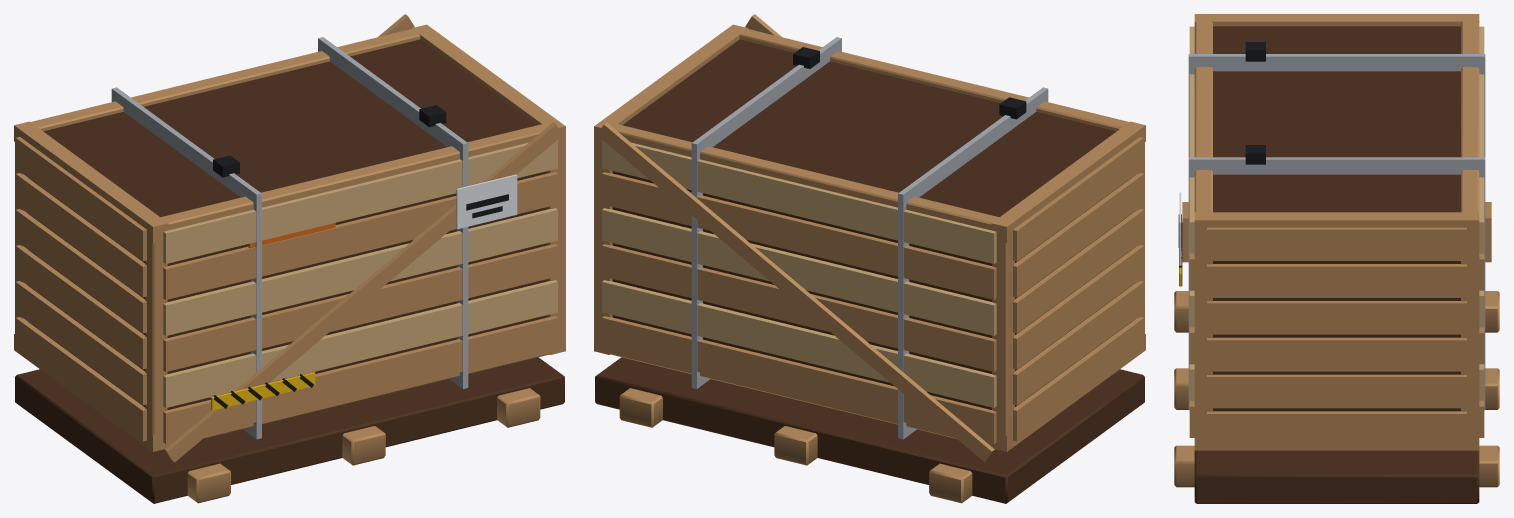
The model's file is crate_plank_crate_24.glb.
The picture shows the model from 3 angles, left to right: view 1: azimuth 30°, elevation 25°; view 2: azimuth 150°, elevation 25°; view 3: azimuth 270°, elevation 25°; orthographic projection. The views are drawn at different scales.
Visible parts, largest first — view 1: crate_plank_crate_24; view 2: crate_plank_crate_24; view 3: crate_plank_crate_24.
Part boxes in pixels (<box>): crate_plank_crate_24: <box>14,14,565,503</box>; crate_plank_crate_24: <box>594,14,1145,503</box>; crate_plank_crate_24: <box>1174,14,1499,503</box>.
Bounding box in the file's own units: 2.45 × 1.65 × 1.6.
